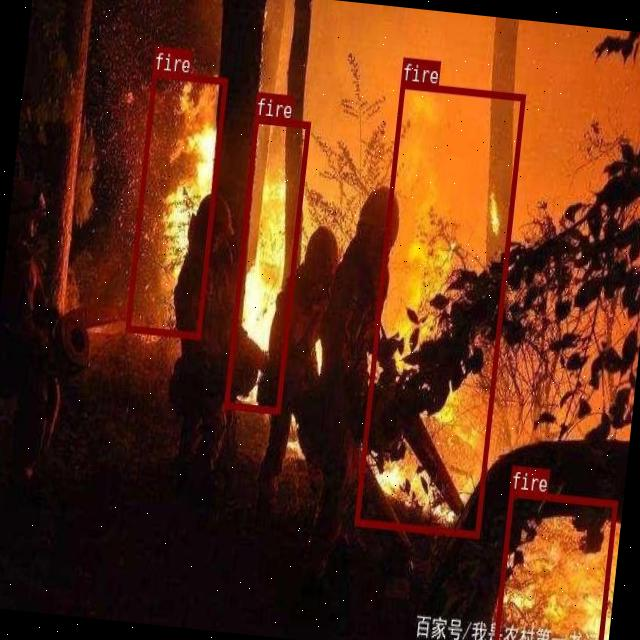fire: (354, 80, 524, 537), (125, 69, 226, 337), (224, 115, 308, 412), (493, 489, 617, 640)
